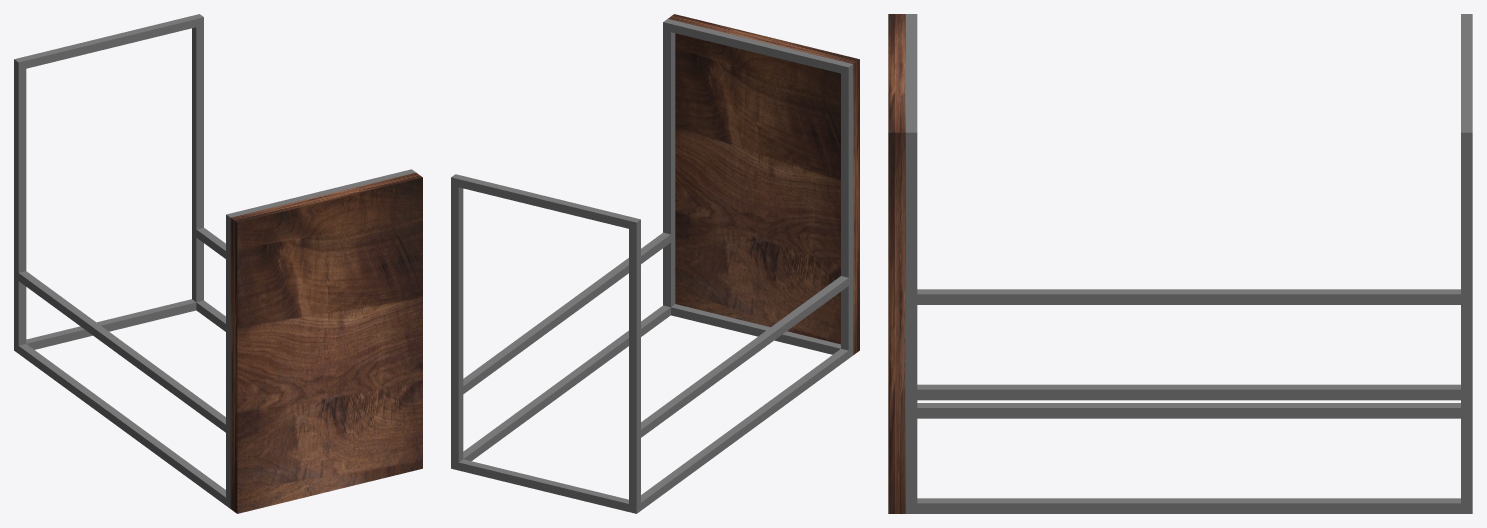
File: side table test 7.17.18.fbx
3 views of the same model, side by side, from view 1: azimuth 30°, elevation 25°; view 2: azimuth 150°, elevation 25°; view 3: azimuth 270°, elevation 25° (orthographic). The views are drawn at different scales.
Parts seen in each view (by area): view 1: wood top, steel bar; view 2: wood top, steel bar; view 3: steel bar, wood top.
Boxes of the visible parts, bbox=[...] form: wood top: bbox=[230, 172, 422, 513]; steel bar: bbox=[14, 14, 415, 508]; wood top: bbox=[668, 14, 859, 354]; steel bar: bbox=[451, 19, 853, 513]; steel bar: bbox=[905, 14, 1472, 513]; wood top: bbox=[888, 14, 905, 513].
Bounding box in the file's own units: 12 × 18 × 25.
